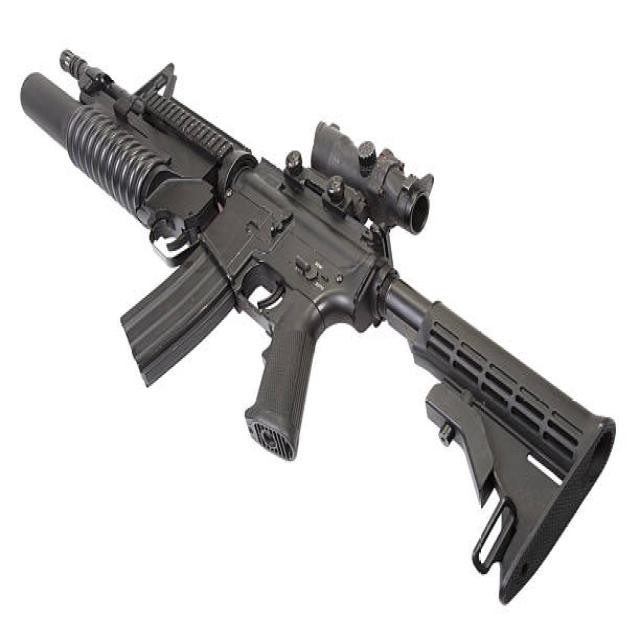rifle: (21, 44, 632, 617)
